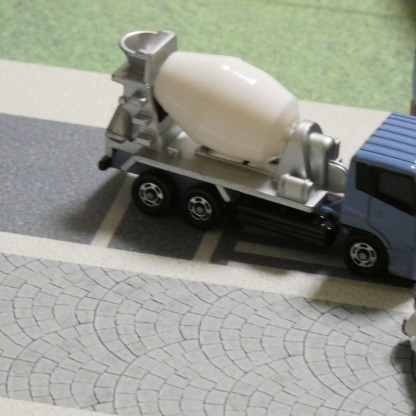car: (107, 27, 416, 286)
